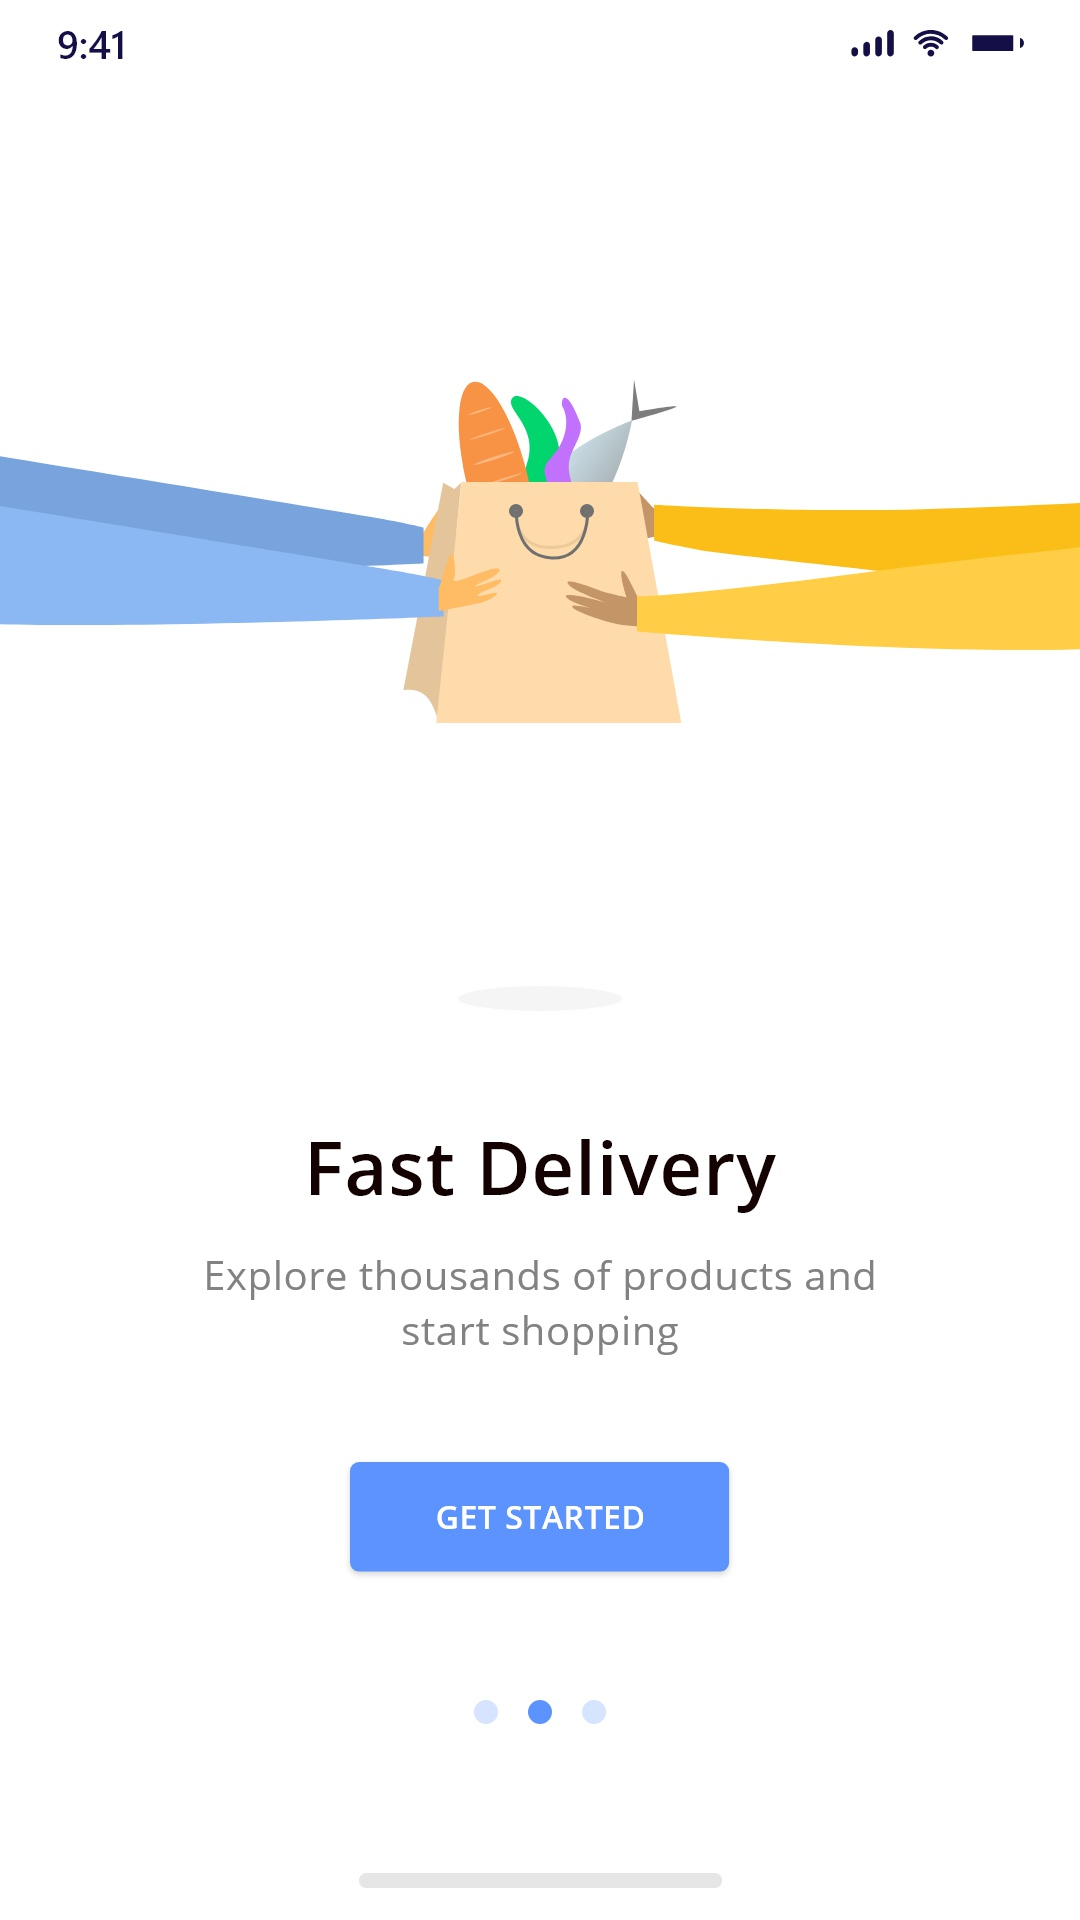Image: (1, 381, 1080, 725)
PageIndicator: (473, 1698, 607, 1725)
Text: (207, 1259, 876, 1356), (310, 1138, 777, 1215)
TextButton: (349, 1462, 731, 1572)
UpperTaskBar: (58, 30, 1025, 61)
